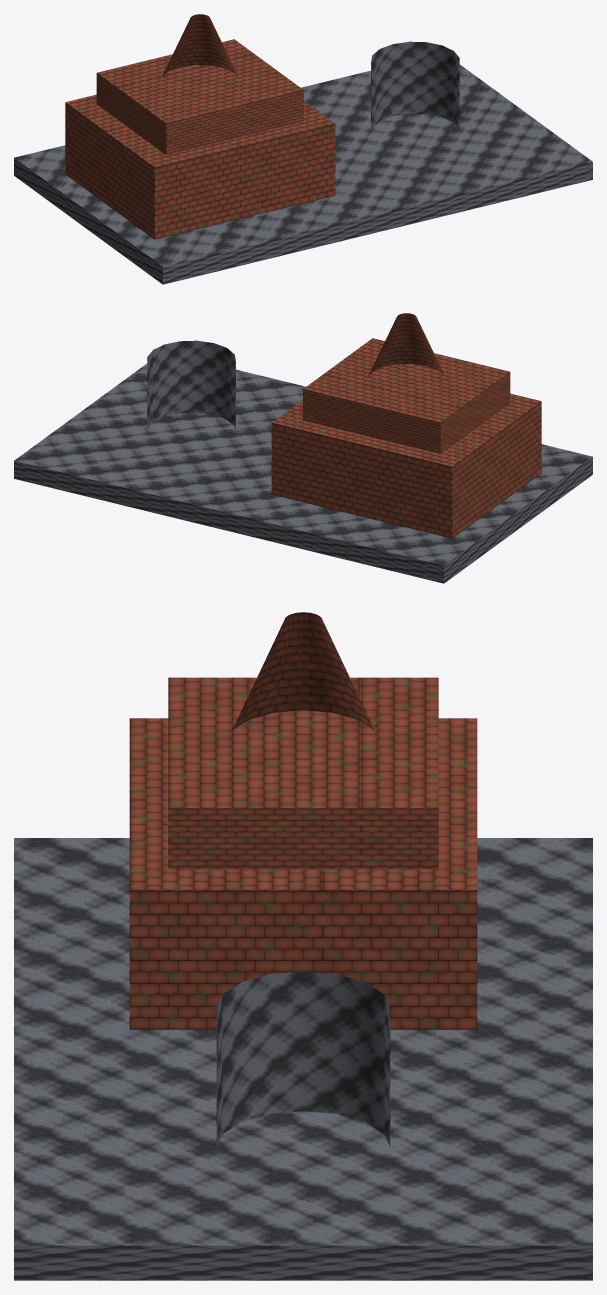
File: pbr_pack_02_roof_tiles_and_asphalt.glb
The picture shows the model from 3 angles, top to bottom: view 1: azimuth 30°, elevation 25°; view 2: azimuth 150°, elevation 25°; view 3: azimuth 270°, elevation 25°; orthographic projection. The views are drawn at different scales.
Visible parts, largest first — view 1: Foggy_Wet_Asphalt_Road_Module, Weathered_Roof_Tiles_Module; view 2: Foggy_Wet_Asphalt_Road_Module, Weathered_Roof_Tiles_Module; view 3: Foggy_Wet_Asphalt_Road_Module, Weathered_Roof_Tiles_Module.
Boxes of the visible parts, bbox=[...] form: Foggy_Wet_Asphalt_Road_Module: bbox=[14, 41, 592, 284]; Weathered_Roof_Tiles_Module: bbox=[65, 14, 335, 239]; Foggy_Wet_Asphalt_Road_Module: bbox=[14, 340, 592, 583]; Weathered_Roof_Tiles_Module: bbox=[271, 313, 541, 538]; Foggy_Wet_Asphalt_Road_Module: bbox=[14, 838, 592, 1280]; Weathered_Roof_Tiles_Module: bbox=[129, 612, 477, 1029].
Bounding box in the file's own units: 10 × 4.1 × 6.
2 materials, 2 textured.
